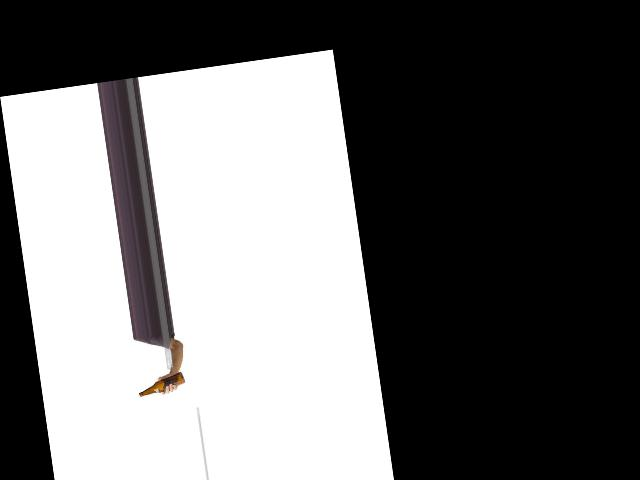beer: (137, 370, 186, 396)
